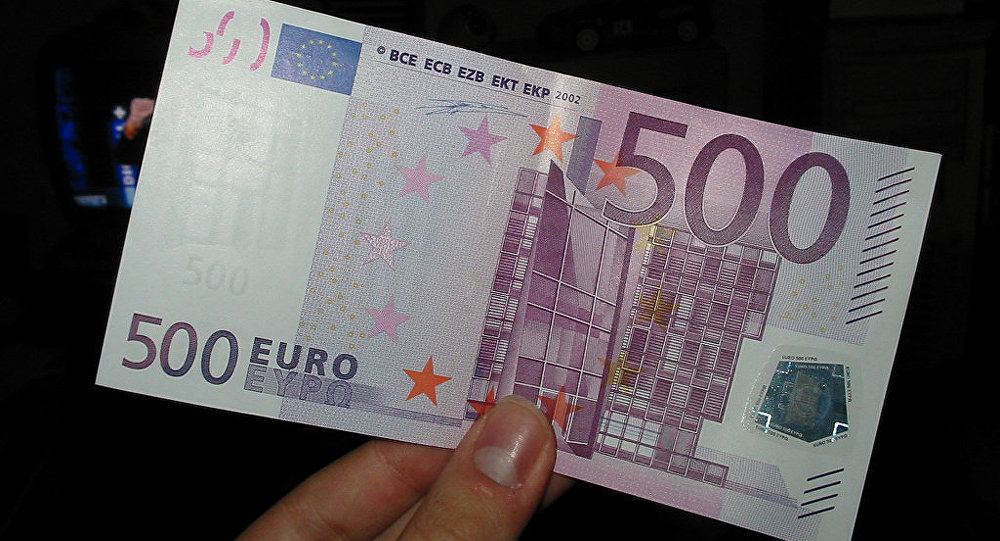billete: (89, 1, 943, 540)
